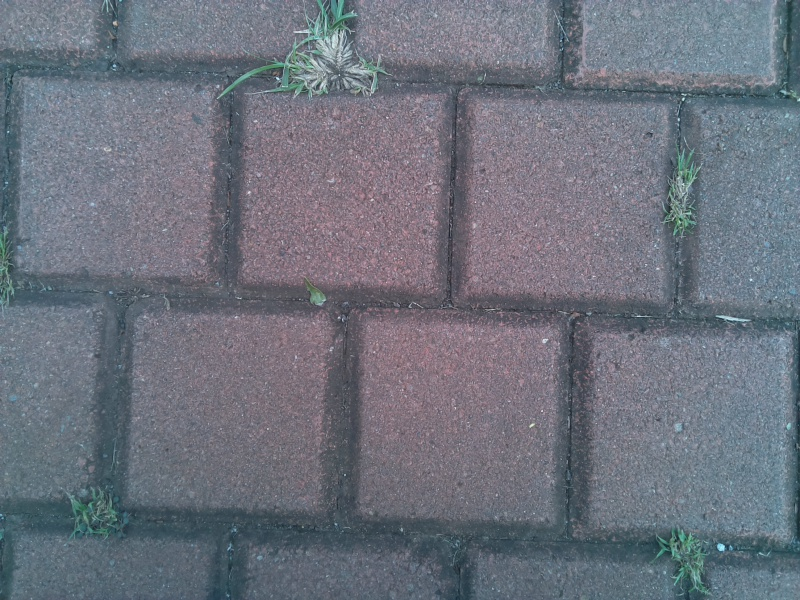Weed: (255, 9, 396, 104), (650, 520, 718, 600), (56, 479, 135, 545), (657, 143, 703, 247)
